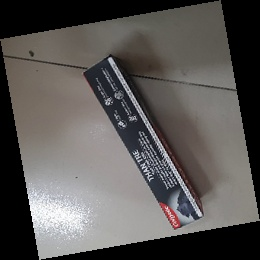Colgate Than: (82, 54, 205, 229)
